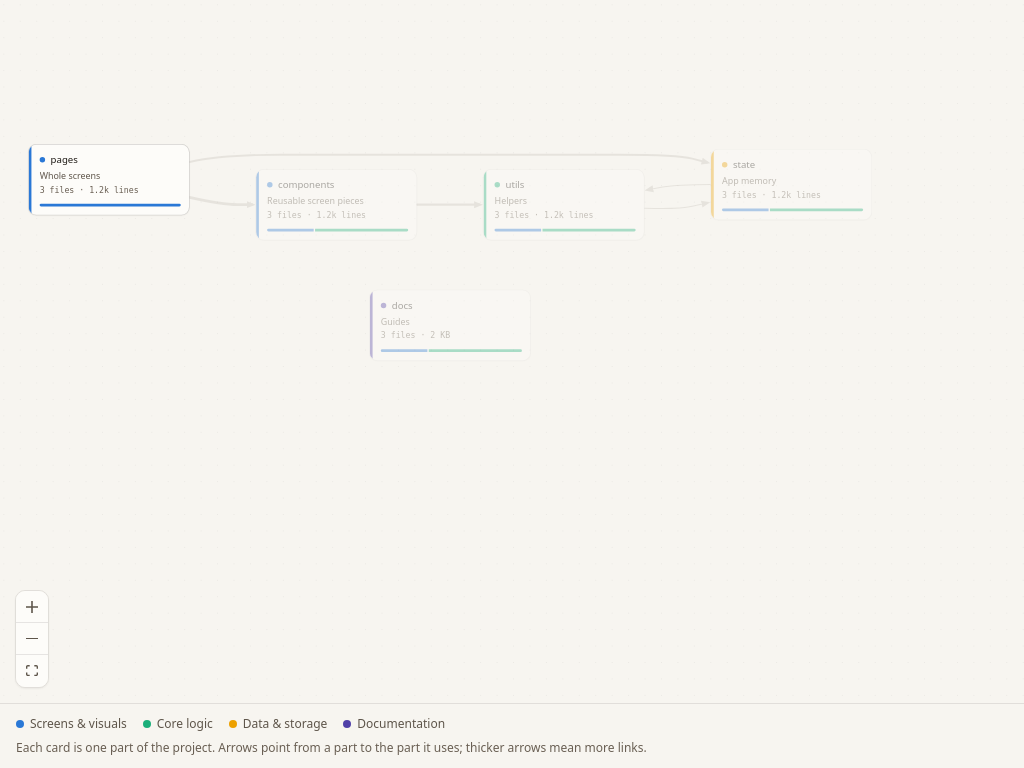
Scenario: ArchitectureGraph › dims parts outside the highlight and shows a tooltip on hover
Hover over the element with class "react-flow__node" that starts with "state" at (791, 184), box [710, 149, 872, 220]
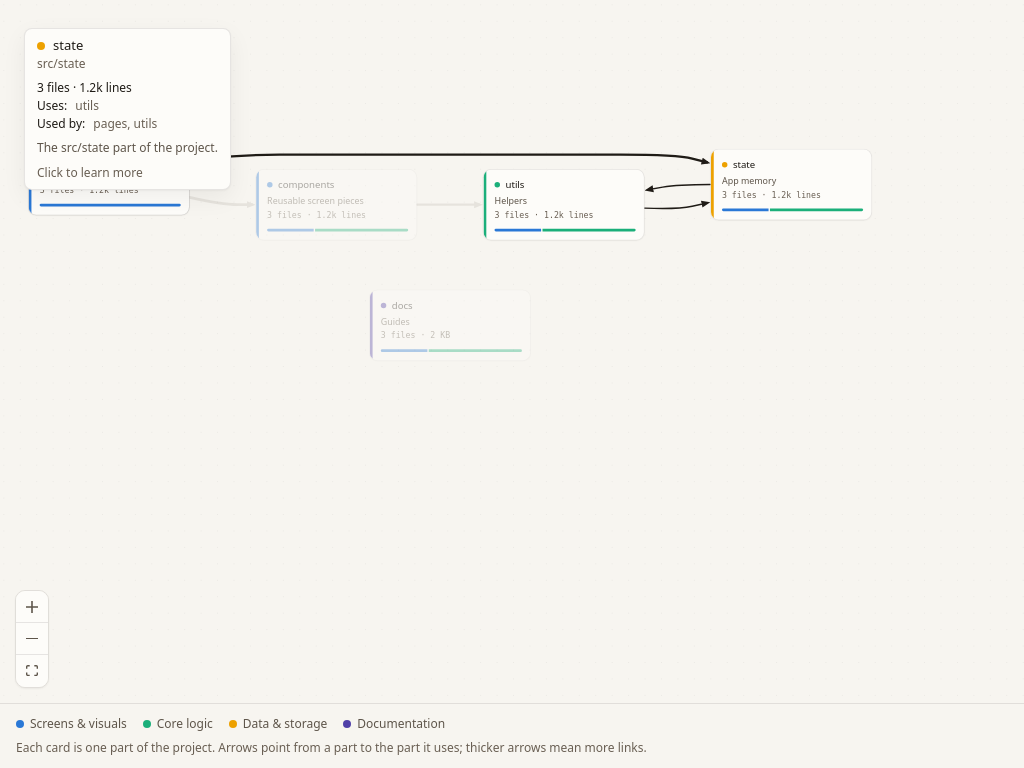
Expected: the 1st text "state" is shown, [53, 37, 83, 54]
Expected: the text "pages, utils" is shown, [93, 116, 157, 132]
Expected: the text "The src/state part of the project." is shown, [37, 140, 218, 157]
Move the pointer off the element with class "react-flow__node" that starts with "state", box [710, 149, 872, 220]
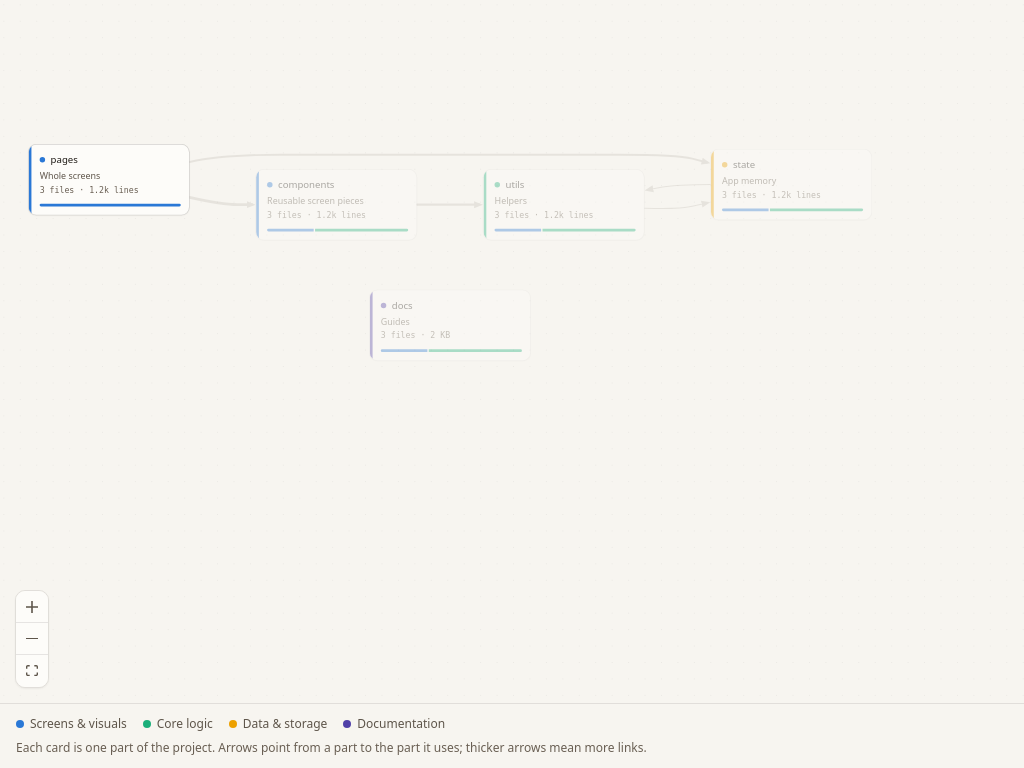
Expected: the tooltip is gone
